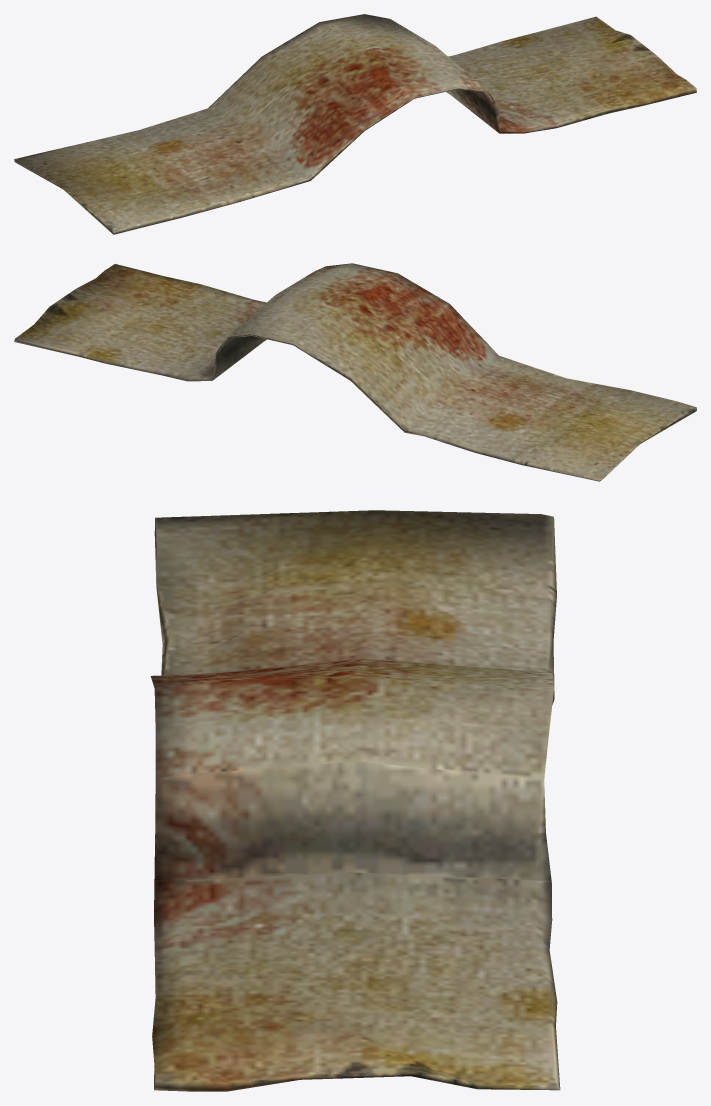
Rendered from bandage_used 01.DAE.
3 renders of one model, top to bottom at view 1: azimuth 30°, elevation 25°; view 2: azimuth 150°, elevation 25°; view 3: azimuth 270°, elevation 25°, orthographic. The views are drawn at different scales.
Visible parts, largest first — view 1: bandage_used 01; view 2: bandage_used 01; view 3: bandage_used 01.
Part boxes in pixels (x1,y1,x2,y2): bandage_used 01: [14, 14, 696, 234]; bandage_used 01: [14, 263, 696, 481]; bandage_used 01: [150, 510, 560, 1091].
Bounding box in the file's own units: 9.83 × 1.15 × 2.98.
